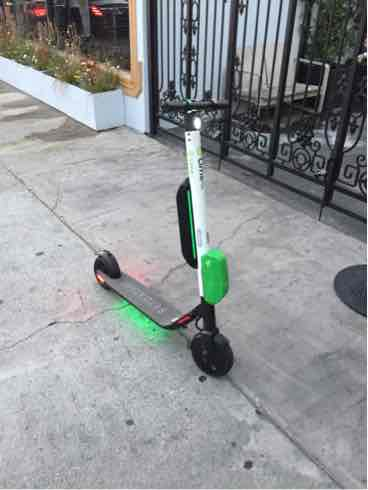scooter: (80, 95, 240, 391)
